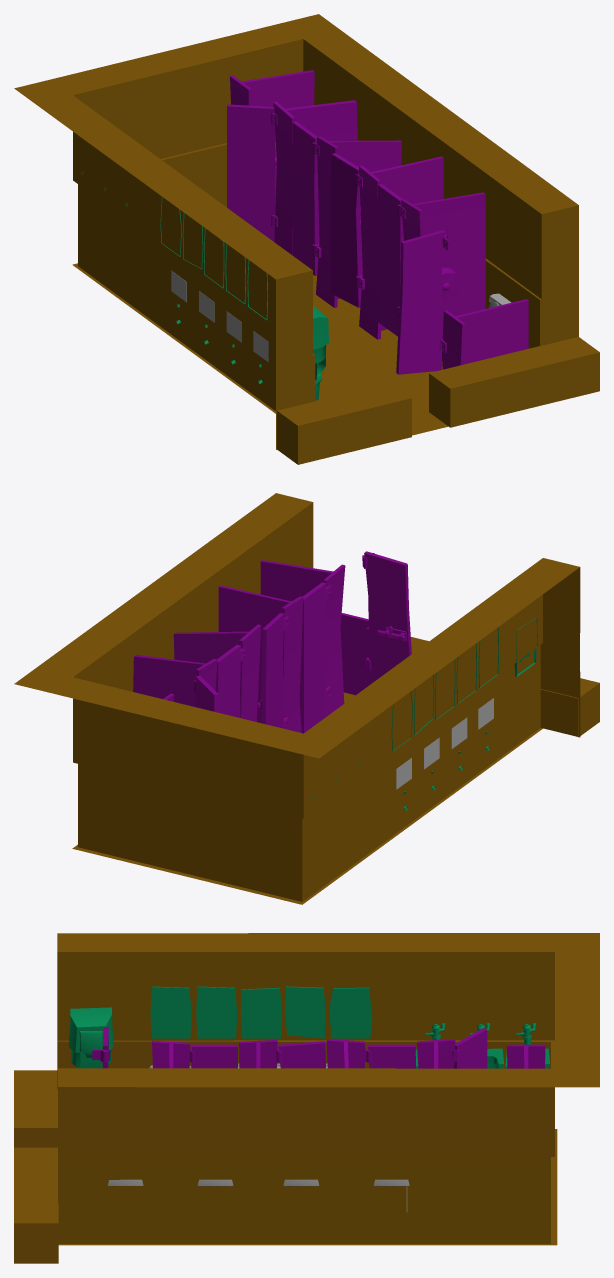
The model's file is Boystoilet.fbx.
3 views of the same model, one above another, from view 1: azimuth 30°, elevation 25°; view 2: azimuth 150°, elevation 25°; view 3: azimuth 270°, elevation 25° (orthographic). The views are drawn at different scales.
Visible parts, largest first — view 1: BathroomWalls, CubicleWalls1, ShortWalls1, Floor, Door2, Door4, Door1, Door3, Door, ReusableTowel, Mirrors; view 2: BathroomWalls, CubicleWalls1, Door2, Door, Door1, Floor, Door3, ShortWalls1, Mirrors, Door4; view 3: BathroomWalls, Mirrors, ShortWalls1, CubicleWalls1, ReusableTowel, Floor, Door1, Door3, Door, Door4.
Part boxes in pixels (x1,y1,x2,y2): BathroomWalls: (14,14,578,449); CubicleWalls1: (230,70,528,369); ShortWalls1: (277,337,599,464); Floor: (72,263,448,435); Door2: (396,230,447,374); Door4: (227,104,275,241); Door1: (330,153,362,307); Door3: (292,121,319,275); Door: (378,184,403,336); ReusableTowel: (313,306,328,380); Mirrors: (160,197,268,320); BathroomWalls: (14,493,580,901); CubicleWalls1: (133,553,374,732); Door2: (362,551,411,684); Door: (300,582,328,733); Door1: (257,613,286,729); Floor: (72,692,542,904); Door3: (215,644,242,717); ShortWalls1: (411,637,599,737); Mirrors: (391,627,498,751); Door4: (194,675,218,712); BathroomWalls: (57,933,599,1243); Mirrors: (150,986,372,1038); ShortWalls1: (14,1070,58,1263); CubicleWalls1: (92,1039,545,1068); ReusableTowel: (69,1007,113,1068); Floor: (58,1129,557,1245); Door1: (276,1041,325,1068); Door3: (365,1044,415,1068); Door: (190,1044,237,1068); Door4: (452,1028,487,1068).
Bounding box in the file's own units: 8.19 × 4.41 × 13.14.
